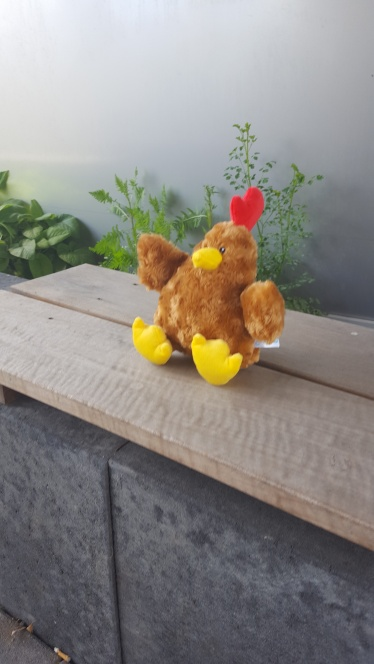chicken_front: (131, 187, 288, 387)
